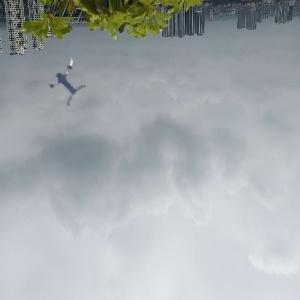drone: (38, 56, 90, 108)
